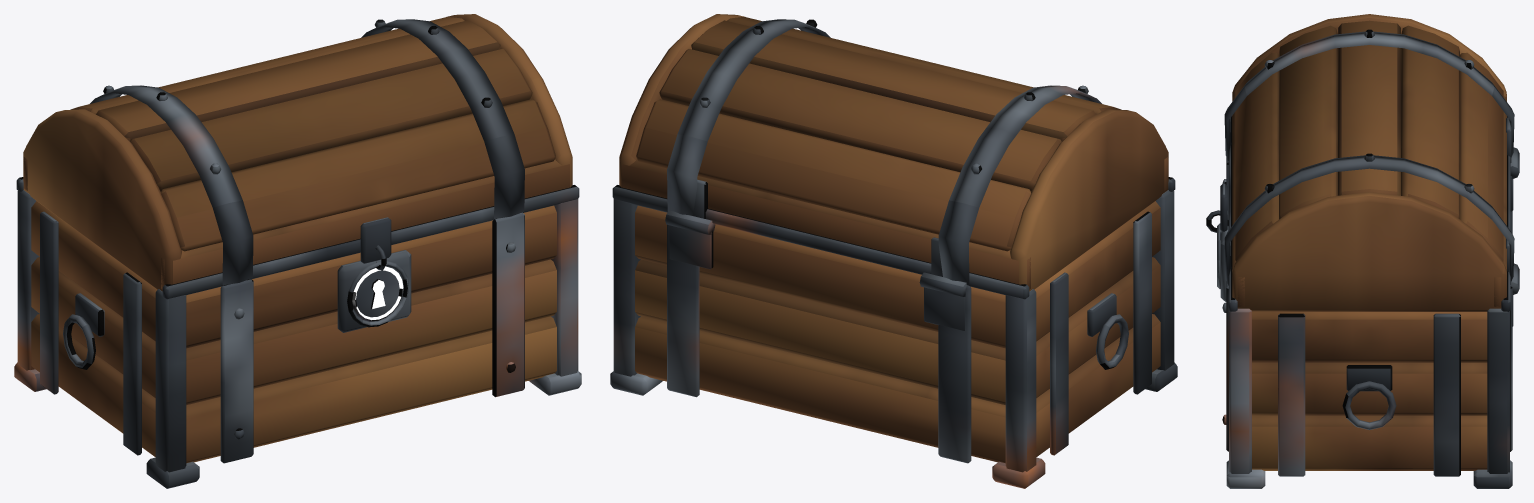
Rendered from Chest.fbx.
The picture shows the model from 3 angles, left to right: view 1: azimuth 30°, elevation 25°; view 2: azimuth 150°, elevation 25°; view 3: azimuth 270°, elevation 25°; orthographic projection. The views are drawn at different scales.
Visible parts, largest first — view 1: Chest_Lid, Chest_Base; view 2: Chest_Lid, Chest_Base; view 3: Chest_Lid, Chest_Base.
Part boxes in pixels (<box>): Chest_Lid: <box>16,14,579,299</box>; Chest_Base: <box>14,190,581,488</box>; Chest_Lid: <box>612,14,1175,299</box>; Chest_Base: <box>610,190,1177,488</box>; Chest_Lid: <box>1206,14,1514,311</box>; Chest_Base: <box>1217,147,1519,488</box>.
Size of the model in its own units: 1.05 by 0.732 by 0.6846.
